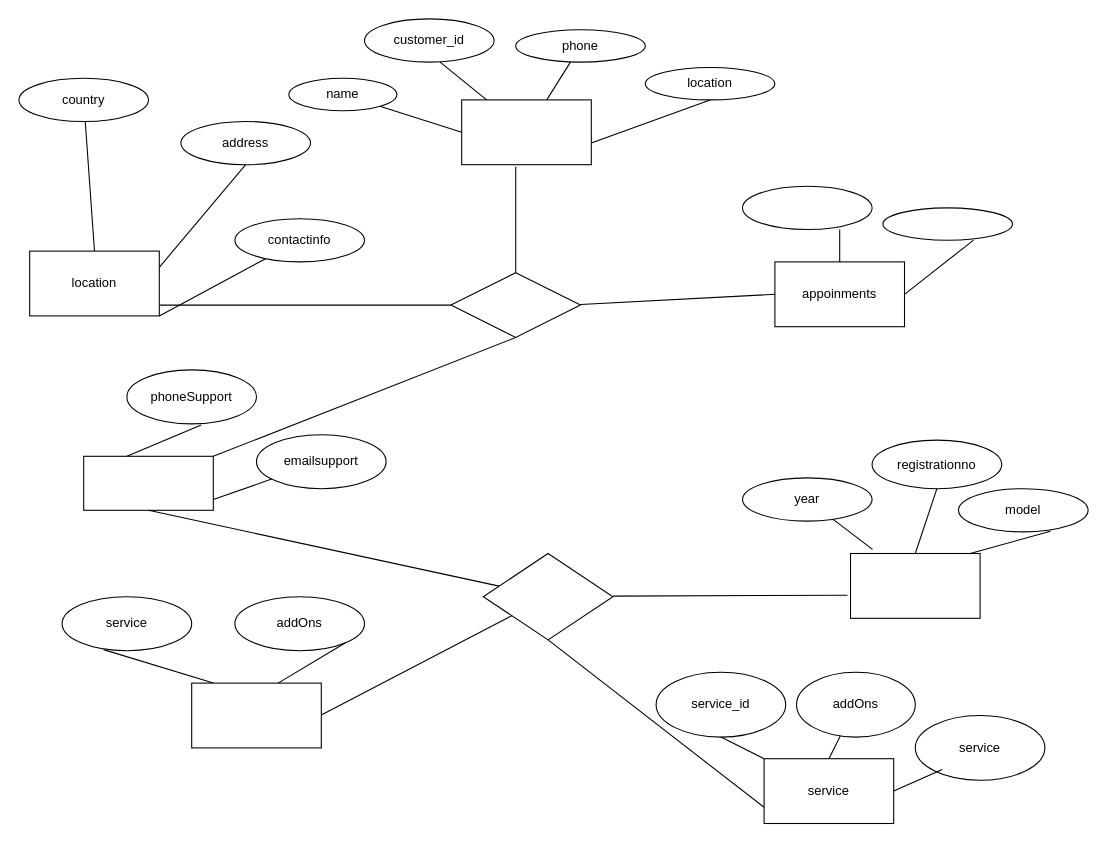
Image size: 1107x842. Some labels were removed from this diagram. The centre of each missing label's shape, as x and y in pixels:
"costEstimation" belongs at point 256,715.
"customer" belongs at point 526,132.
"customerSupport" belongs at point 148,482.
"date" belongs at point 806,207.
"HAS" belongs at point 515,305.
"manages" belongs at point 547,596.
"time" belongs at point 947,223.
"VehicleInfo" belongs at point 914,585.
